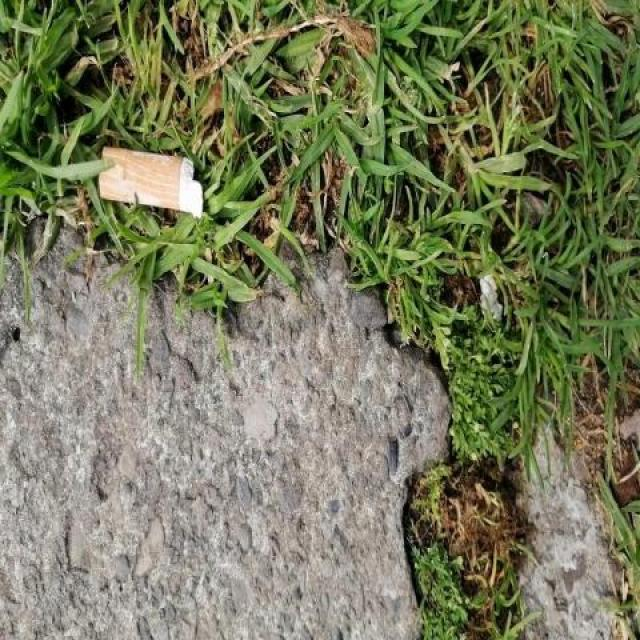non-organic waste: (96, 142, 205, 222)
